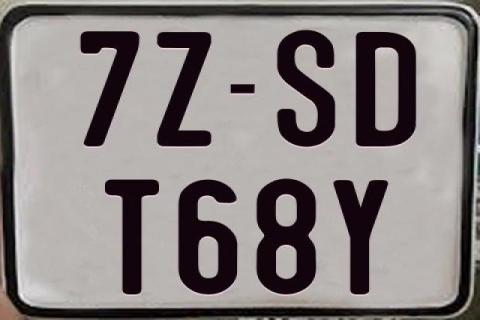0: (253, 178, 317, 298), (178, 178, 240, 298), (80, 31, 142, 146)
D: (356, 32, 418, 151)
S: (275, 29, 334, 151)
T: (104, 177, 158, 292)
Y: (333, 178, 389, 294)
Z: (156, 32, 213, 149)
